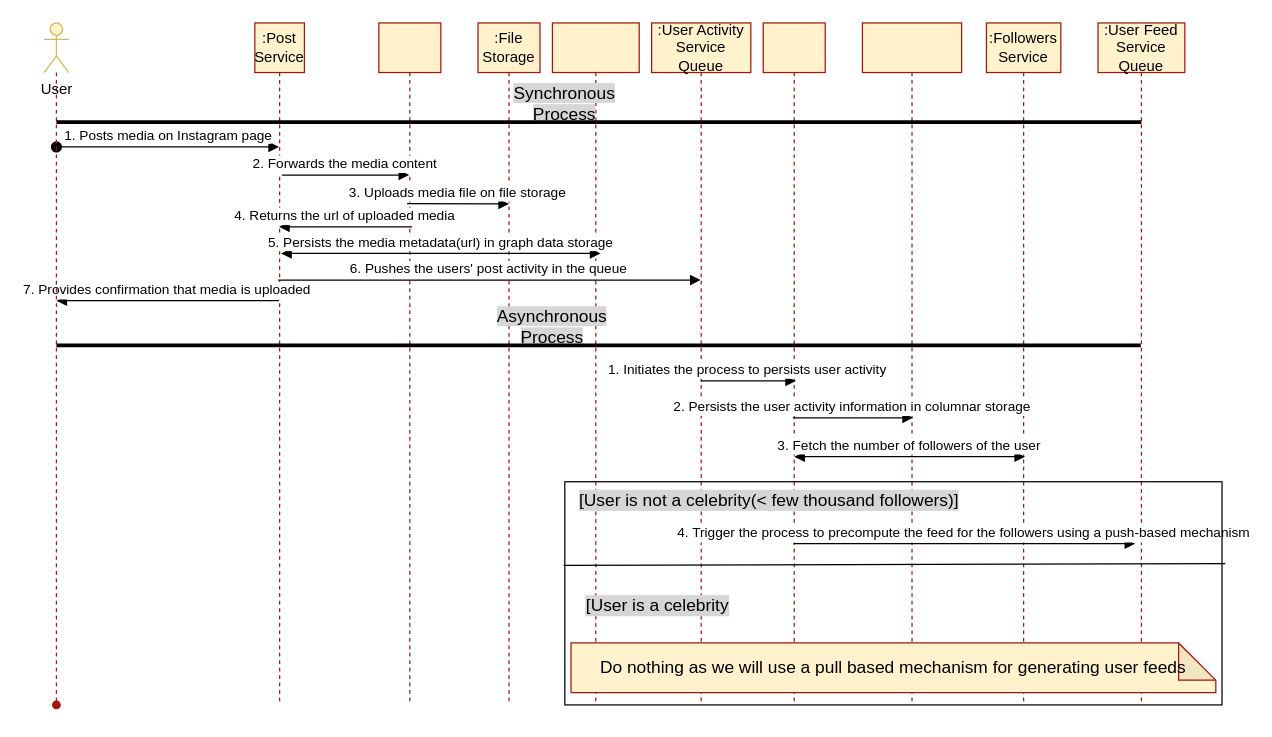
This 1272x737 diagram has some shape labels left out. The shapes that lost their labels are listed below. From the top down, each one's box as (x1, y1, x2, y2) in pixels, then its label:
(378, 22, 441, 705): :Media Hosting Service
(551, 22, 639, 705): :Graph Data Storage
(762, 22, 825, 705): :User Activity Service
(861, 22, 962, 705): :User Activity Cassandra Storage
